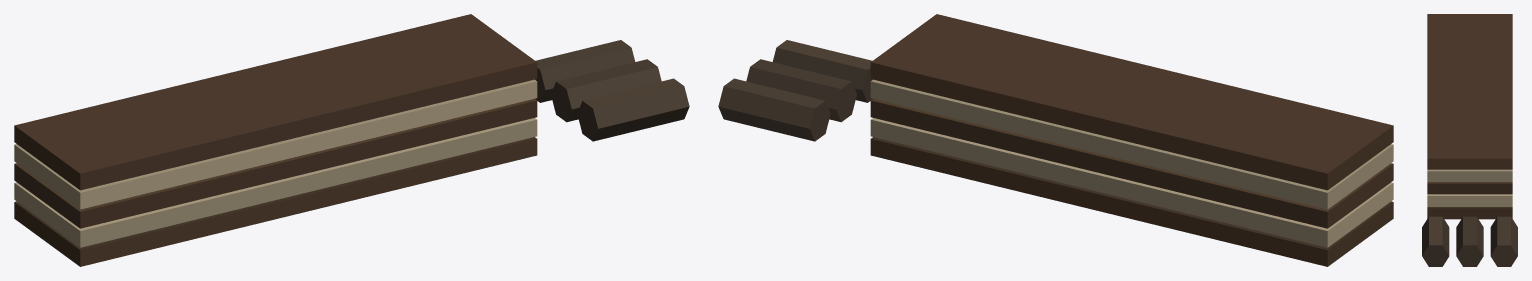
Rendered from walk_prop_goods_timber.glb.
3 views of the same model, side by side, from view 1: azimuth 30°, elevation 25°; view 2: azimuth 150°, elevation 25°; view 3: azimuth 270°, elevation 25° (orthographic). The views are drawn at different scales.
Parts seen in each view (by area): view 1: walk_prop_goods_timber; view 2: walk_prop_goods_timber; view 3: walk_prop_goods_timber.
Part boxes in pixels (x1,y1,x2,y2): walk_prop_goods_timber: (14, 14, 689, 266); walk_prop_goods_timber: (718, 14, 1393, 266); walk_prop_goods_timber: (1422, 14, 1517, 266).
Bounding box in the file's own units: 2.65 × 0.3943 × 0.56.
1 material, 1 textured.
